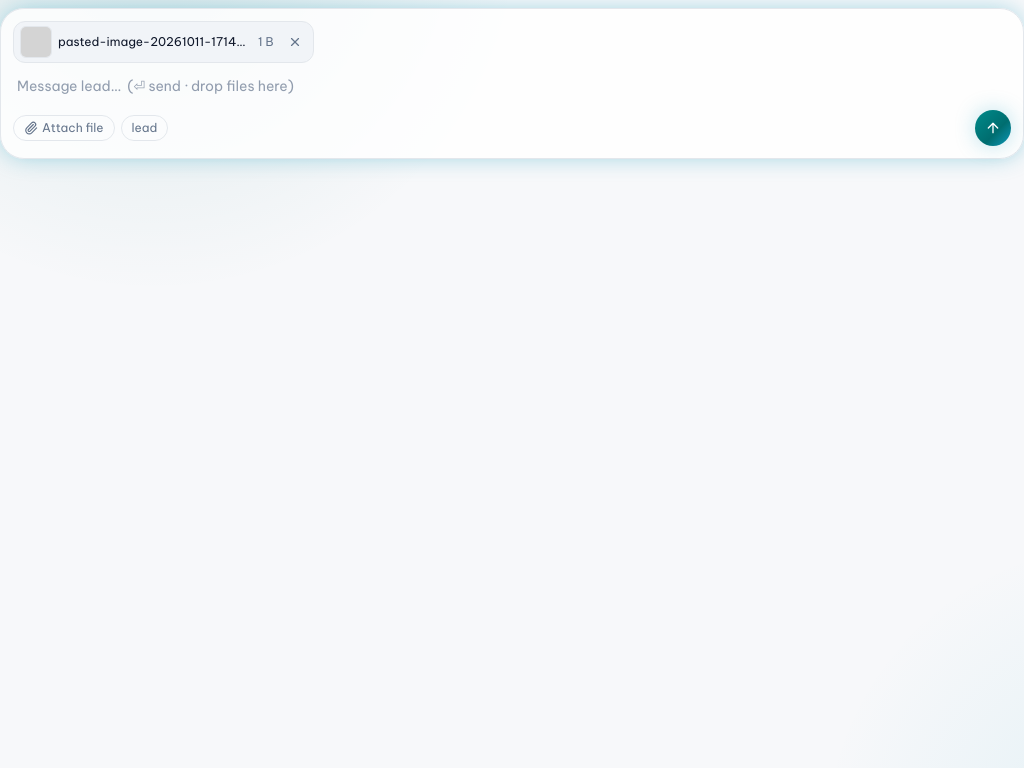
it: pasting into the composer (F8) › removes a pasted image with ×, and a text paste stays text
The image size is (1024, 768).
What coordinates should you click on to do the following:
click the button named "Remove pasted-image-20261011-171430.png"
I would click on:
 (296, 42)
Its box is [282,28,310,56].
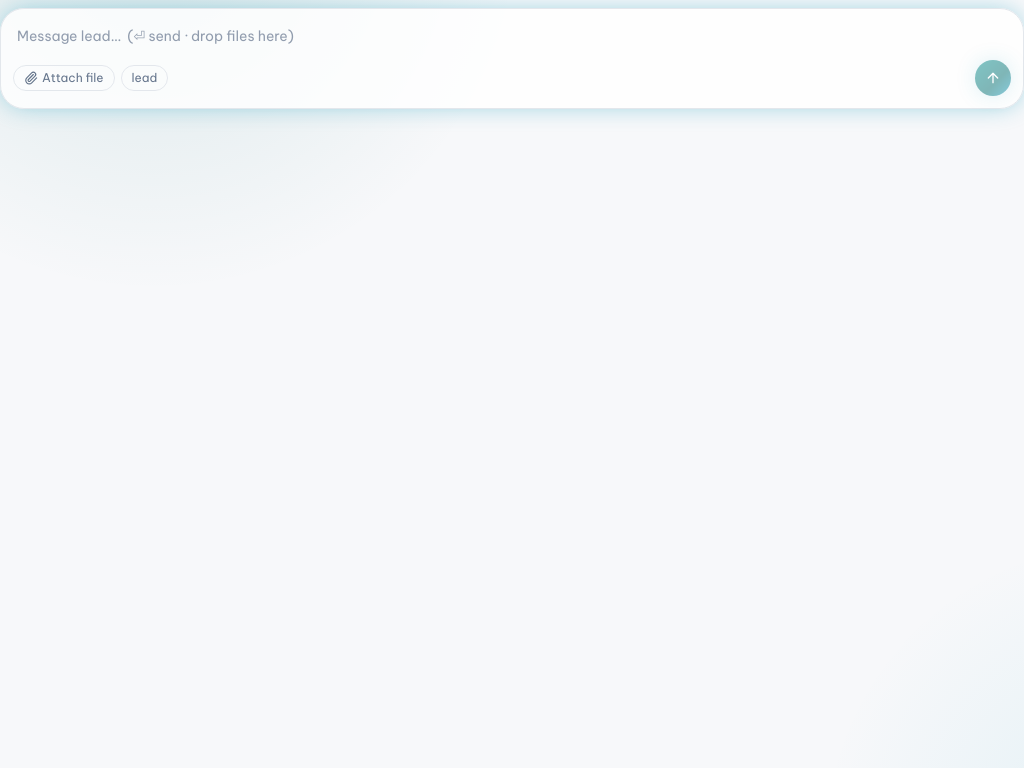
Expected: the list item with test id "attachment-chip" is gone
